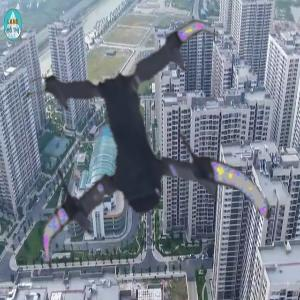drone: (9, 35, 273, 299)
